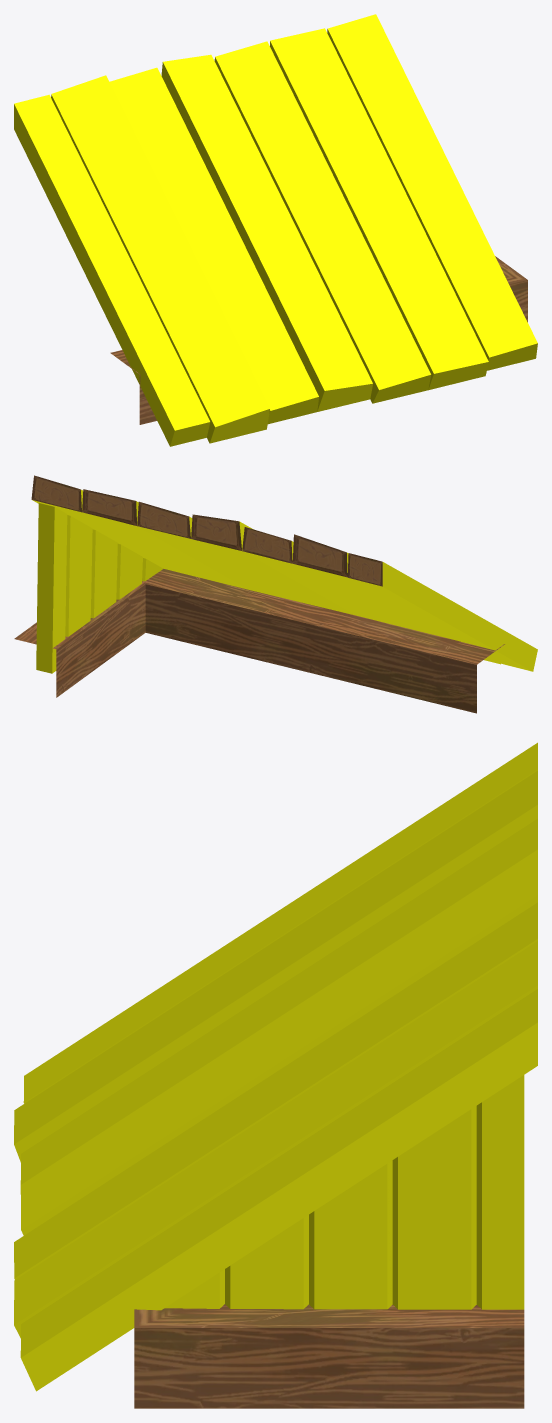
The model's file is roof-wooden-2x1-r.glb.
3 renders of one model, top to bottom at view 1: azimuth 30°, elevation 25°; view 2: azimuth 150°, elevation 25°; view 3: azimuth 270°, elevation 25°, orthographic. The views are drawn at different scales.
Parts seen in each view (by area): view 1: Roof_Wooden_2x1_R; view 2: Roof_Wooden_2x1_R; view 3: Roof_Wooden_2x1_R.
Boxes of the visible parts, bbox=[...] form: Roof_Wooden_2x1_R: bbox=[14, 14, 537, 446]; Roof_Wooden_2x1_R: bbox=[14, 475, 537, 713]; Roof_Wooden_2x1_R: bbox=[14, 742, 537, 1408].
Size of the model in its own units: 2.13 by 1.25 by 1.56.
Materials: 2 (1 with a texture image).
